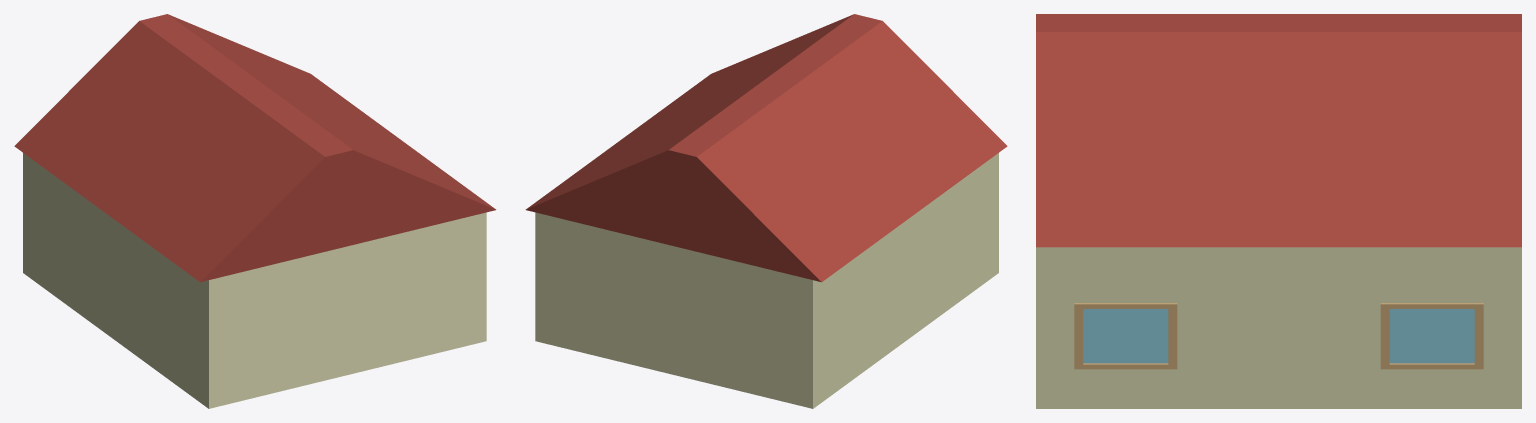
The model's file is House2.fbx.
The picture shows the model from 3 angles, left to right: view 1: azimuth 30°, elevation 25°; view 2: azimuth 150°, elevation 25°; view 3: azimuth 270°, elevation 25°; orthographic projection. The views are drawn at different scales.
Visible parts, largest first — view 1: Cube.004, Cube.003; view 2: Cube.004, Cube.003; view 3: Cube.004, Cube.003.
Boxes of the visible parts, x1,y1,x2,y2 form: Cube.004: (14, 14, 496, 282); Cube.003: (23, 153, 486, 408); Cube.004: (525, 14, 1007, 282); Cube.003: (535, 153, 998, 408); Cube.004: (1036, 14, 1521, 247); Cube.003: (1036, 247, 1521, 408).
Size of the model in its own units: 600 by 432 by 652.
